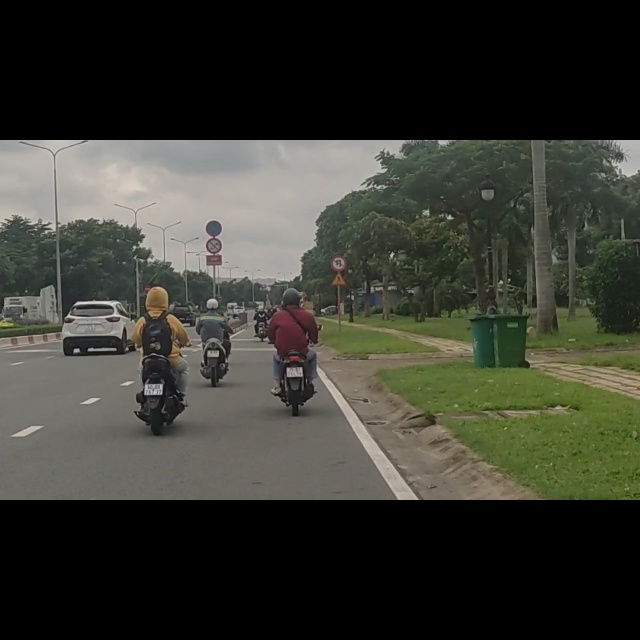bien_nguy_hiem: (205, 142, 223, 171), (206, 173, 223, 201), (331, 204, 347, 232), (331, 235, 347, 258), (143, 256, 151, 270)
